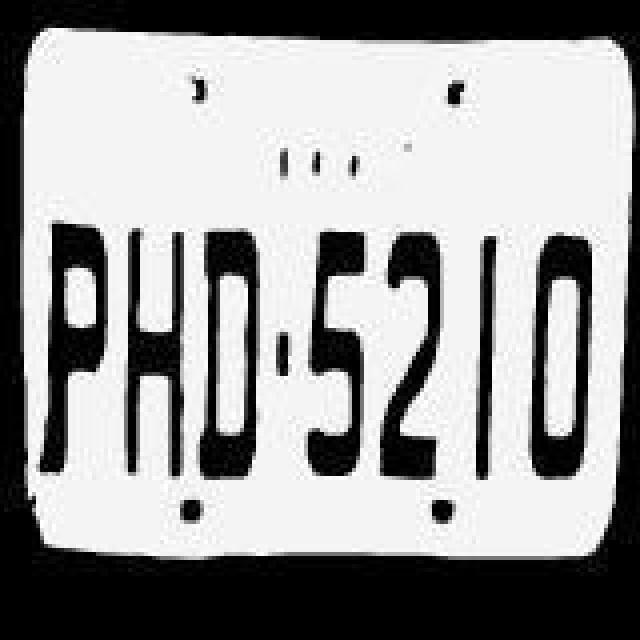1: (466, 230, 510, 498)
2: (380, 220, 444, 484)
5: (306, 224, 374, 480)
D: (198, 224, 266, 488)
H: (124, 222, 196, 482)
O: (520, 240, 592, 480)
P: (40, 212, 120, 468)
